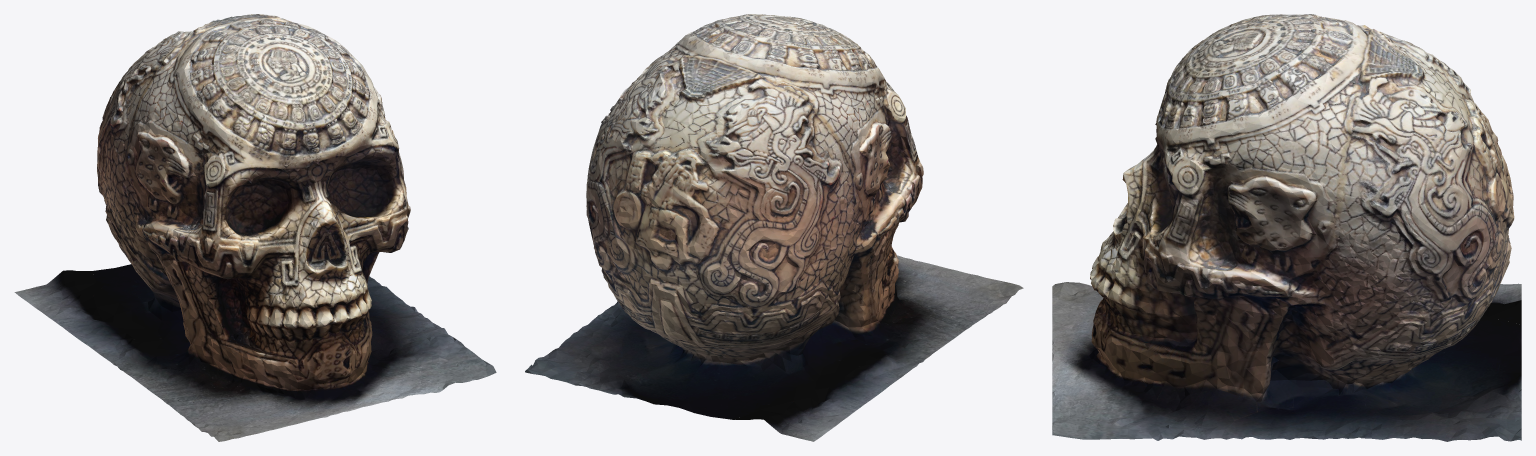
The model's file is calaca.glb.
3 renders of one model, left to right at view 1: azimuth 30°, elevation 25°; view 2: azimuth 150°, elevation 25°; view 3: azimuth 270°, elevation 25°, orthographic. The views are drawn at different scales.
Size of the model in its own units: 0.1666 by 0.1698 by 0.211.
1 material, 1 textured.
